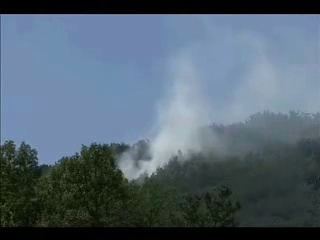smoke: (179, 14, 291, 158), (108, 99, 194, 184)
